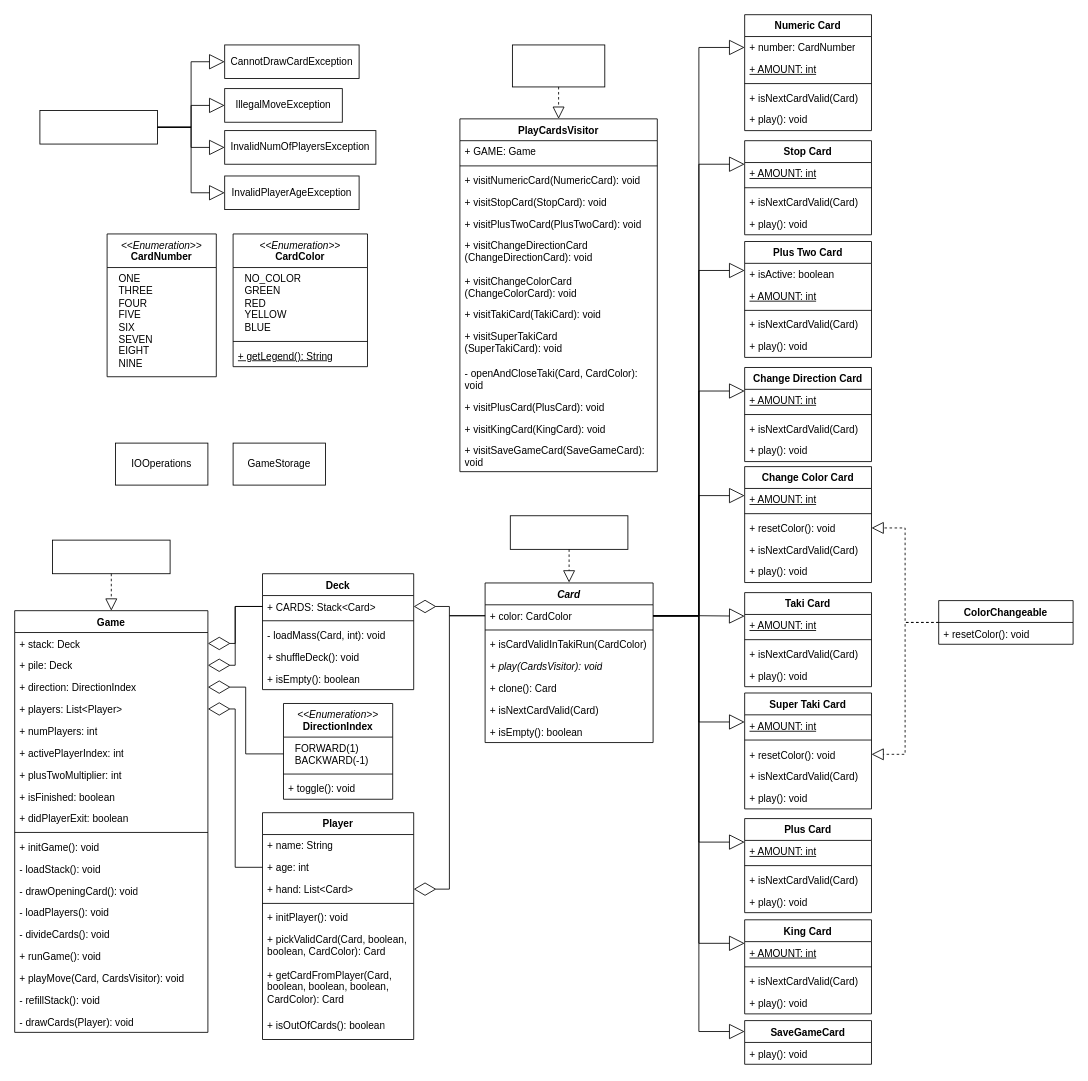
Some shapes in this 1088 by 1081 pixel diagram are drawn without their labels. Here are the shapes that lost their labels. From the top down, the centre of each, then its label:
At (558,65): "<<Interface>> CardsVisitor".
At (98,127): "Exception".
At (568,532): "Cloneable".
At (111,556): "Serializable".
